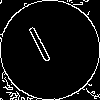I: (25, 25, 59, 72)
